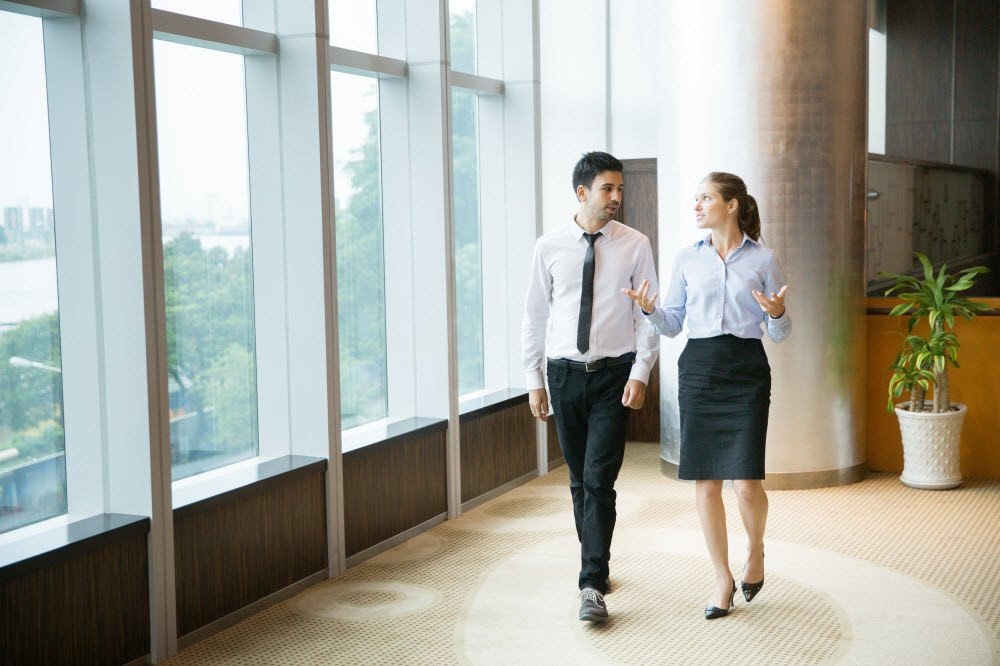person: (524, 152, 664, 620), (654, 172, 785, 622)
